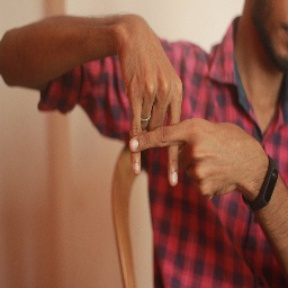H: (109, 80, 215, 188)
